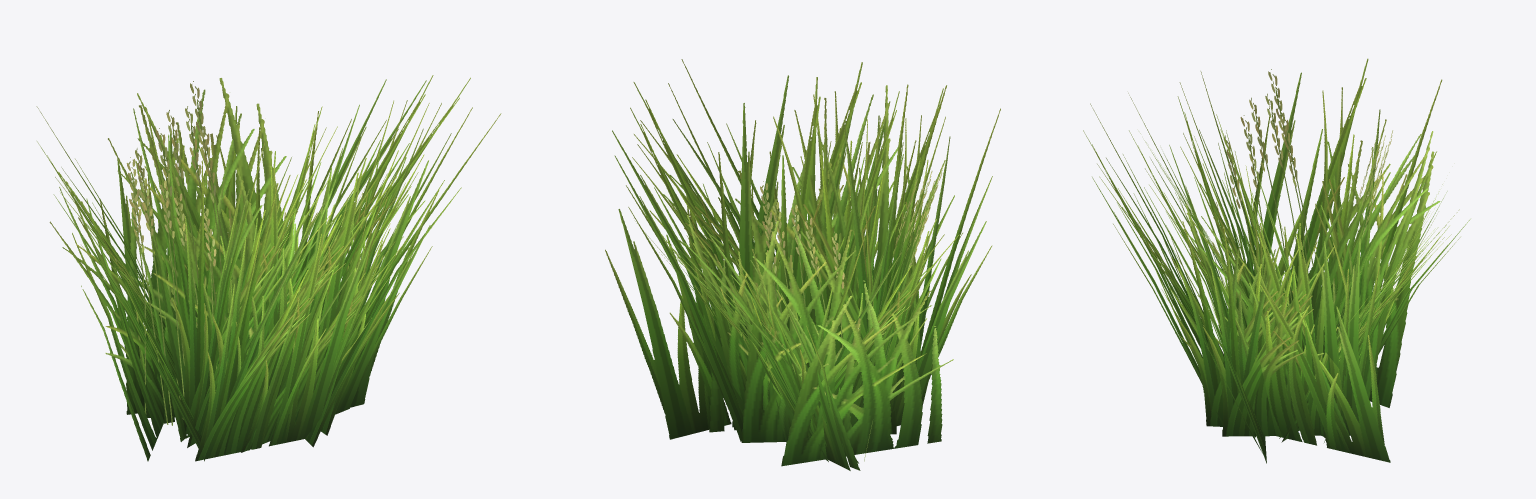
Rendered from Grass_Meadow_B.fbx.
The picture shows the model from 3 angles, left to right: view 1: azimuth 30°, elevation 25°; view 2: azimuth 150°, elevation 25°; view 3: azimuth 270°, elevation 25°; orthographic projection. The views are drawn at different scales.
Parts seen in each view (by area): view 1: Grass_Meadow_B_LOD0; view 2: Grass_Meadow_B_LOD0; view 3: Grass_Meadow_B_LOD0.
Boxes of the visible parts, x1,y1,x2,y2 form: Grass_Meadow_B_LOD0: (36, 75, 501, 461); Grass_Meadow_B_LOD0: (605, 59, 1000, 470); Grass_Meadow_B_LOD0: (1083, 58, 1470, 463).
Size of what is drawn, in the model's own units: 0.8872 by 0.6494 by 0.7924.
